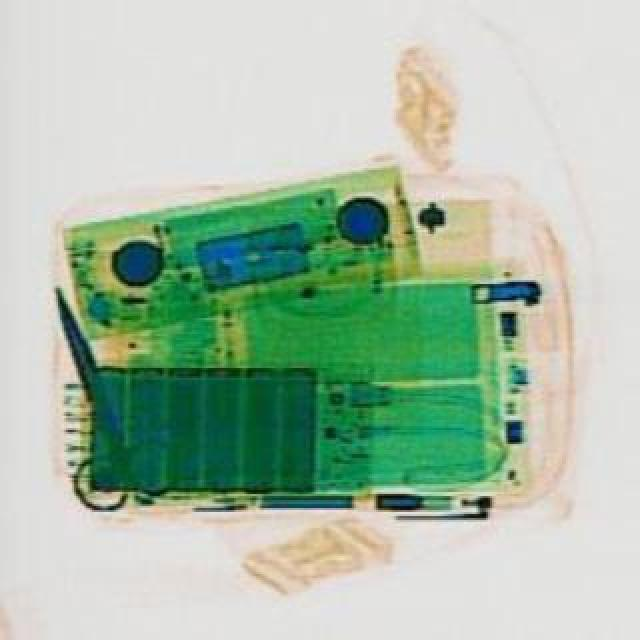pliers: (4, 272, 180, 516)
